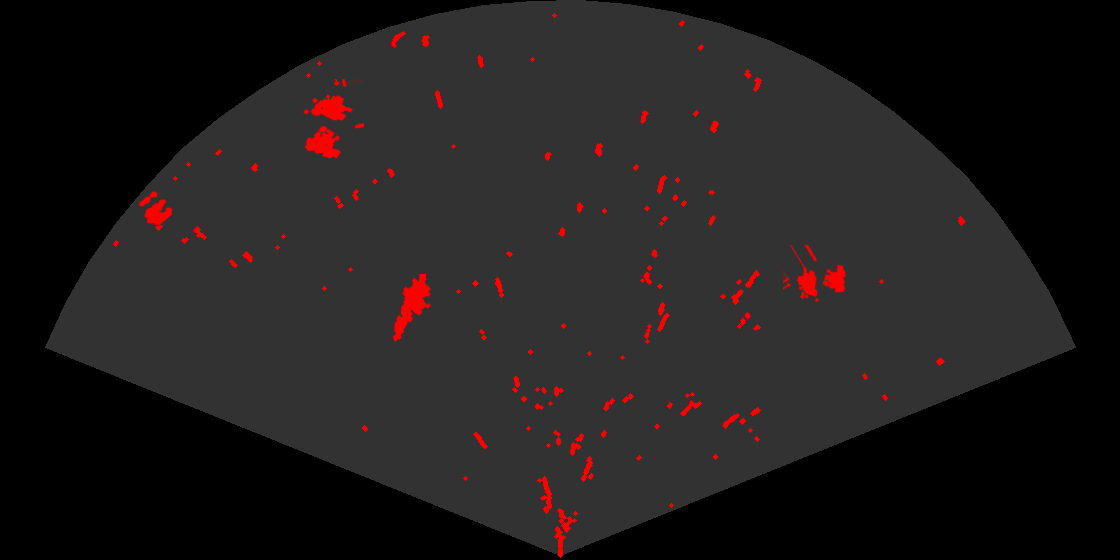ball: (138, 190, 174, 227)
cage: (302, 79, 364, 160), (783, 245, 848, 304)
frogman: (392, 274, 433, 343)
